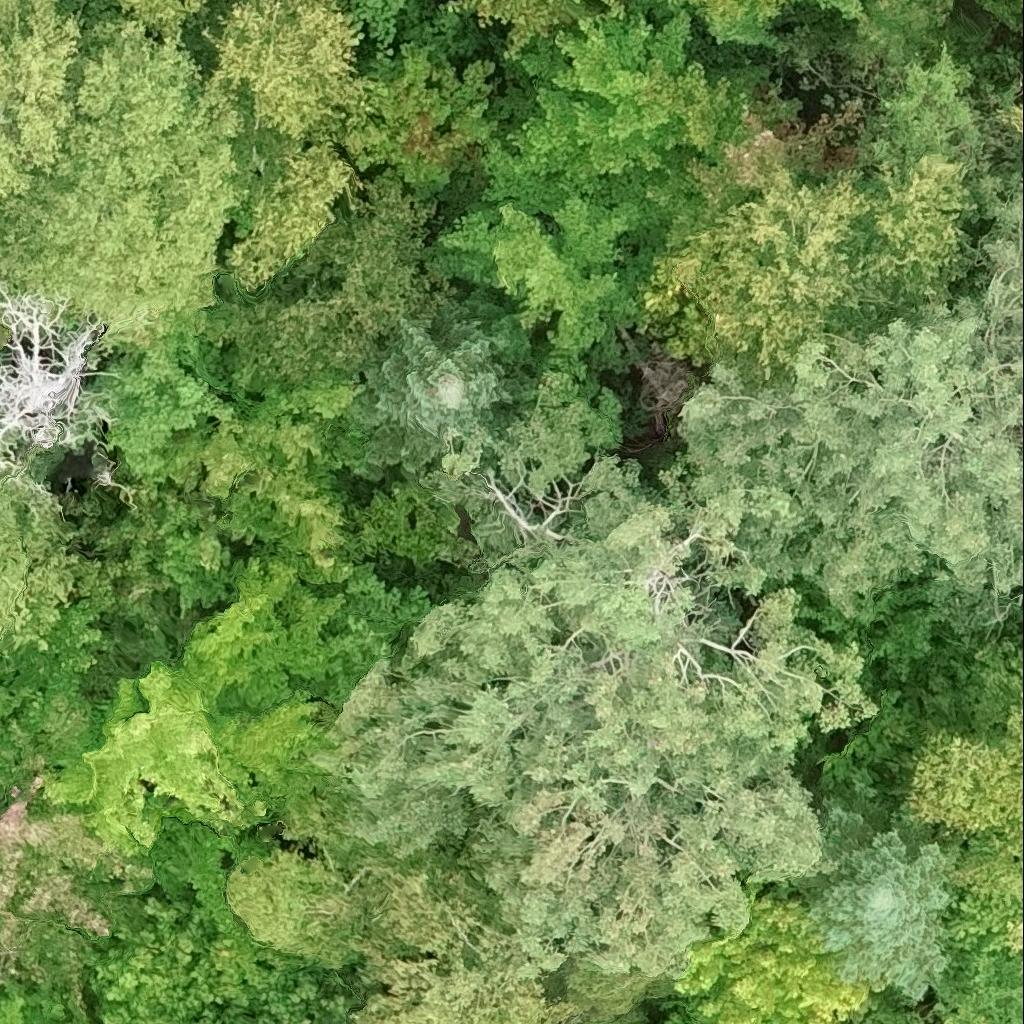crown: (318, 406, 880, 979), (281, 790, 517, 961), (782, 801, 954, 998), (676, 890, 873, 1023), (357, 928, 571, 1023), (94, 896, 247, 1023), (228, 857, 367, 961), (191, 967, 373, 1023), (668, 1013, 688, 1023)
